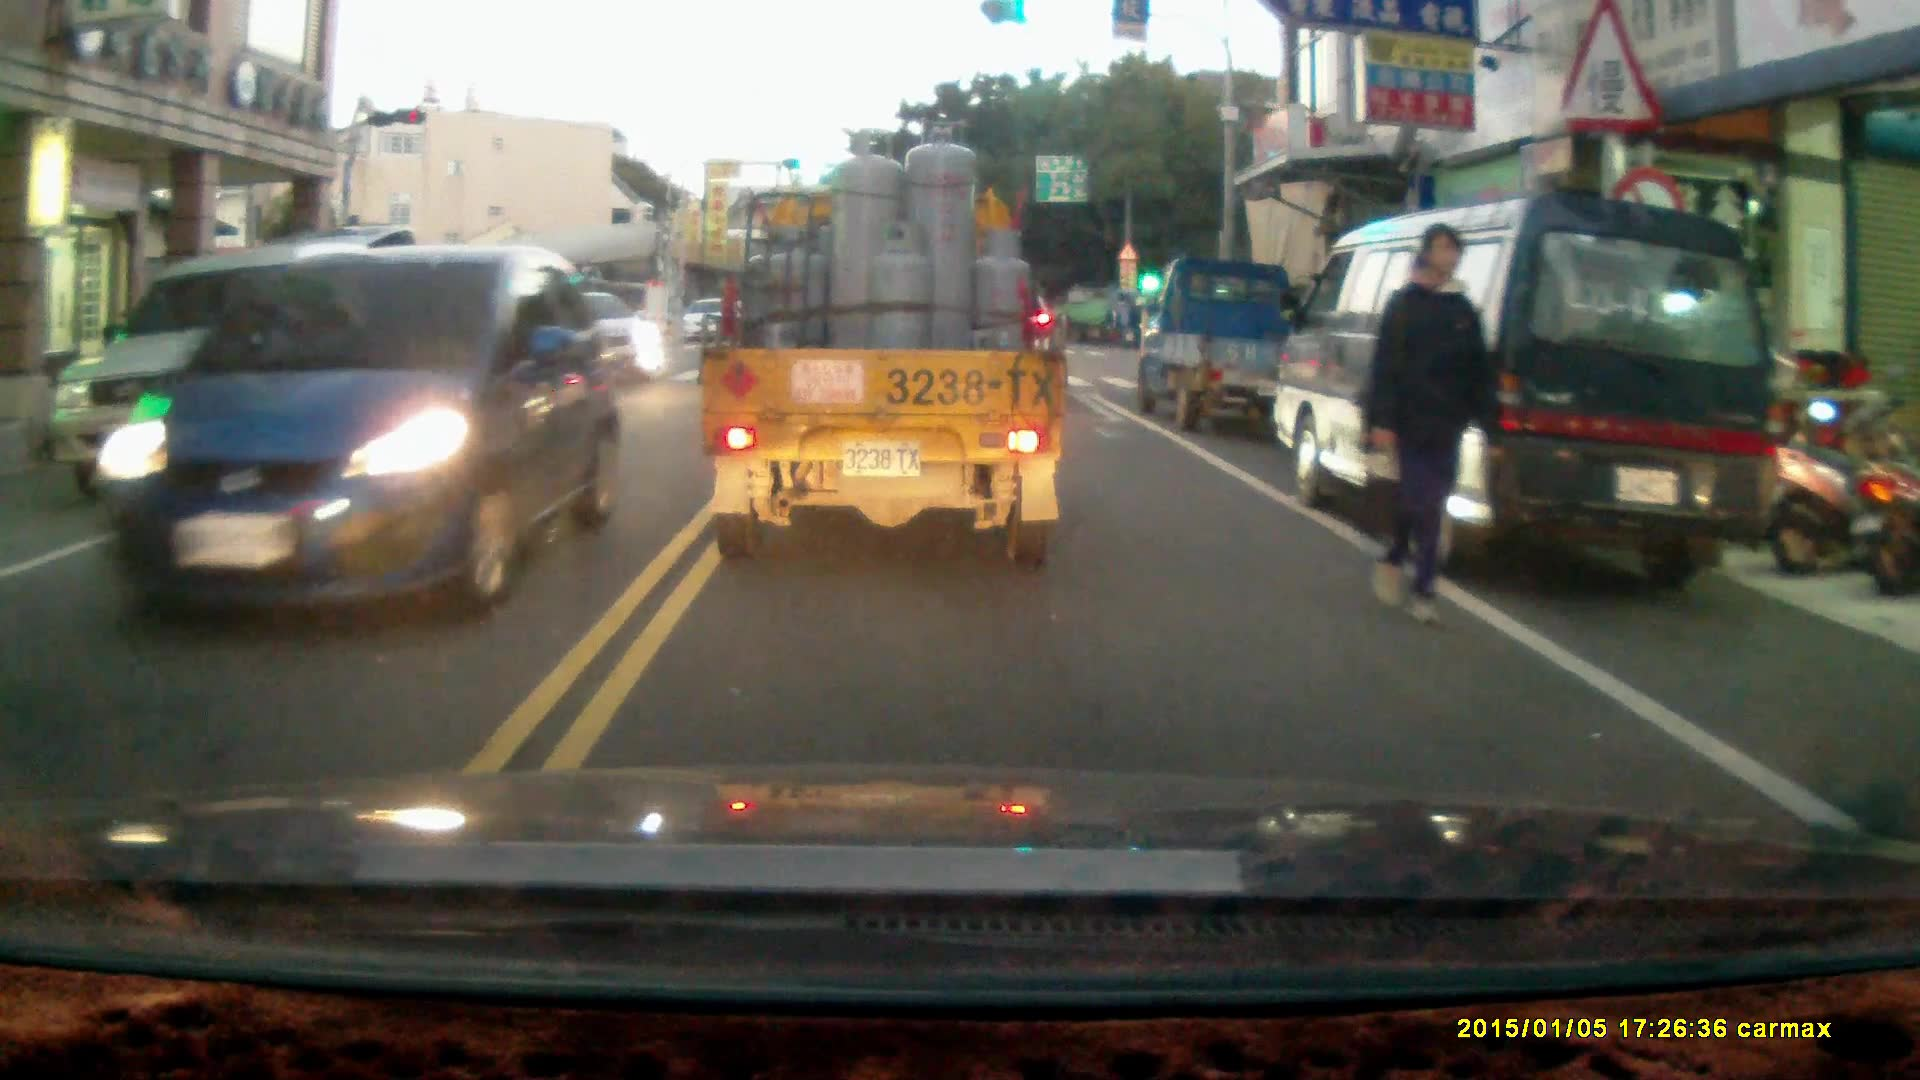pedestrian: (1361, 226, 1495, 631)
vehicle: (1276, 189, 1782, 592), (124, 240, 605, 642), (698, 122, 1066, 561), (287, 296, 532, 432), (1127, 246, 1300, 422)
